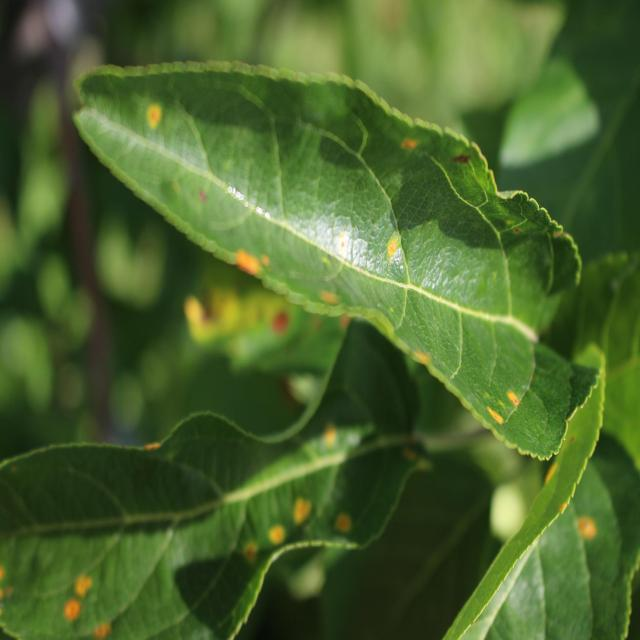Rust: (235, 232, 276, 295), (310, 276, 350, 319), (67, 552, 101, 602), (332, 504, 358, 565), (482, 391, 512, 442), (376, 219, 404, 272), (238, 535, 266, 582), (57, 591, 89, 632), (394, 123, 422, 168), (142, 82, 161, 144), (291, 494, 320, 534), (579, 502, 598, 562), (268, 522, 296, 560), (84, 620, 120, 639), (507, 387, 522, 423)
